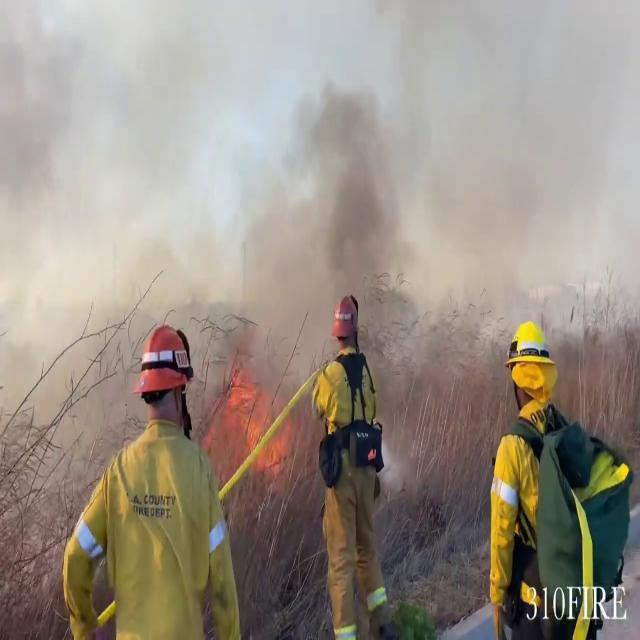Fire: (222, 367, 289, 474)
Smoke: (223, 5, 640, 380)
